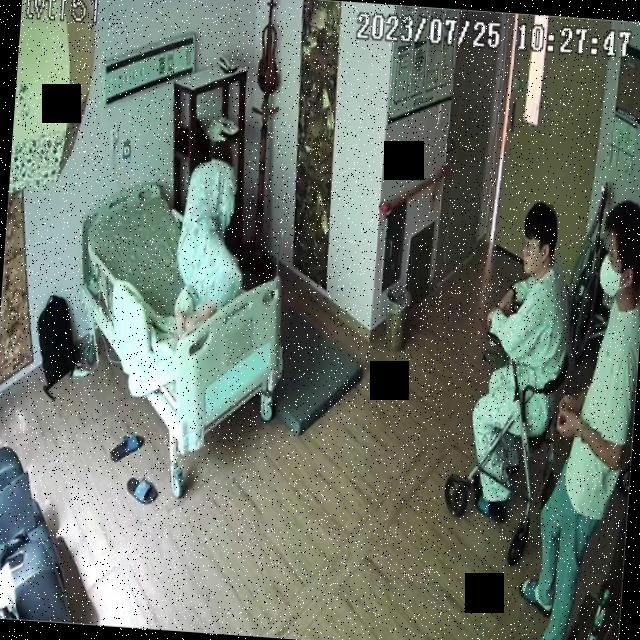danger: (165, 130, 252, 342)
patient: (165, 130, 252, 341)
